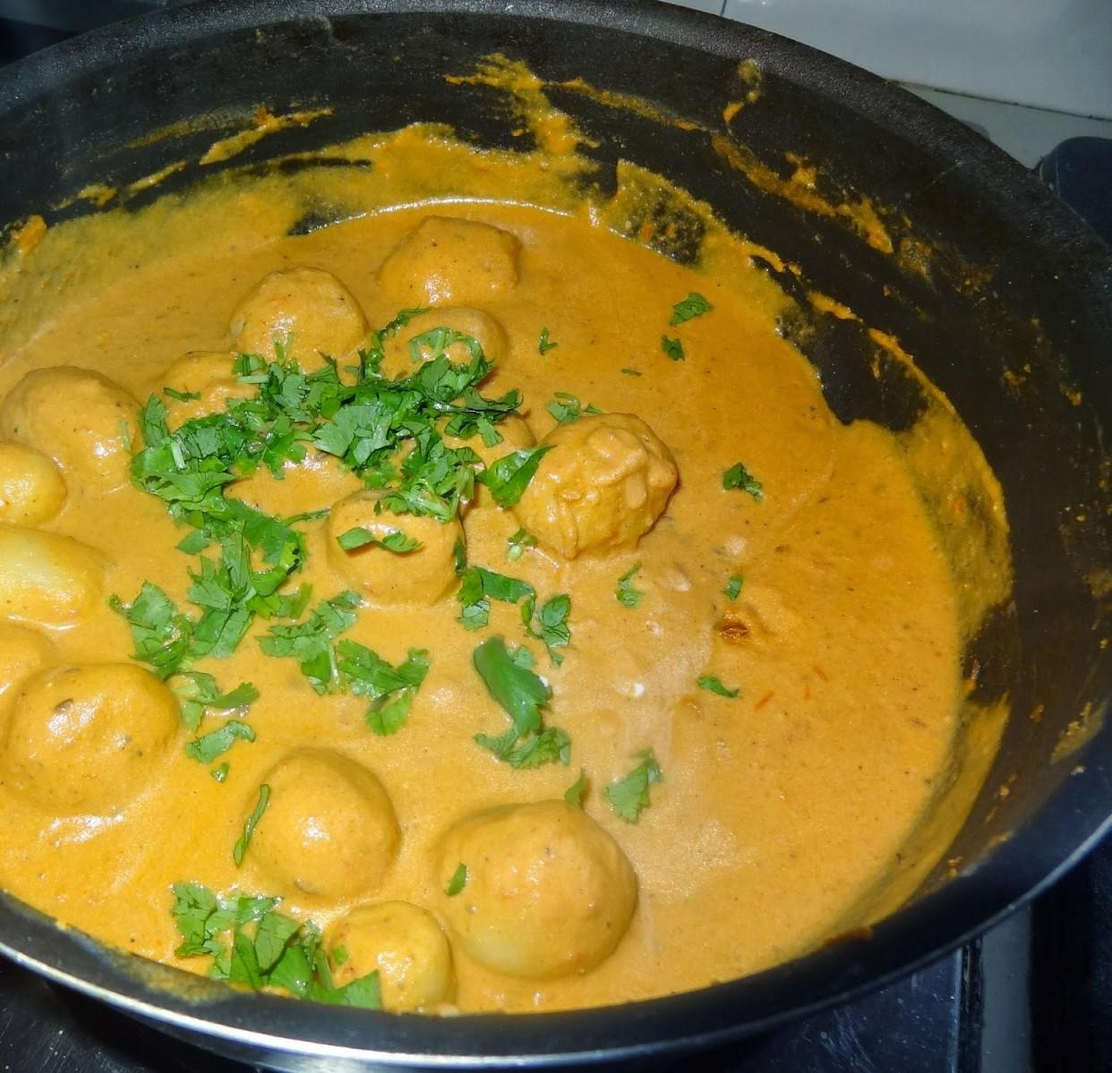DumAloo: (0, 119, 1002, 1012)
